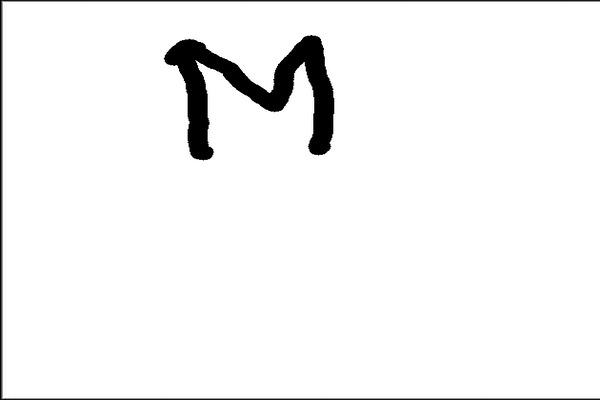M: (156, 32, 337, 157)
